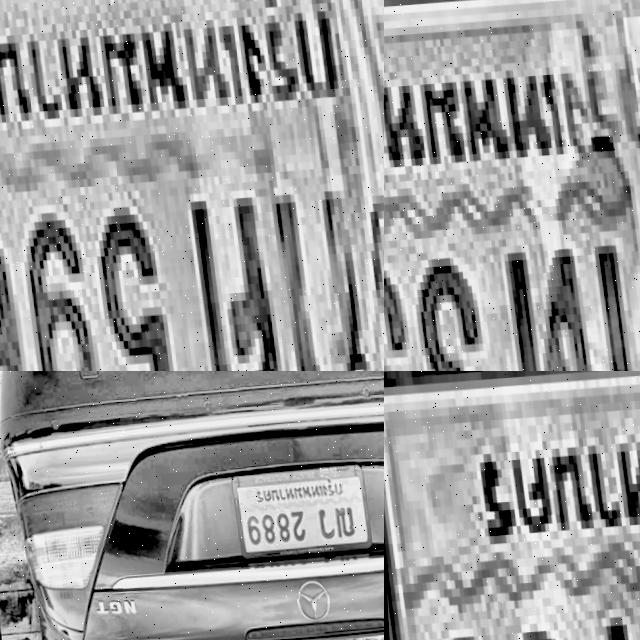license-plate: (0, 0, 384, 371), (384, 0, 640, 371), (384, 371, 640, 640), (225, 463, 371, 563)
